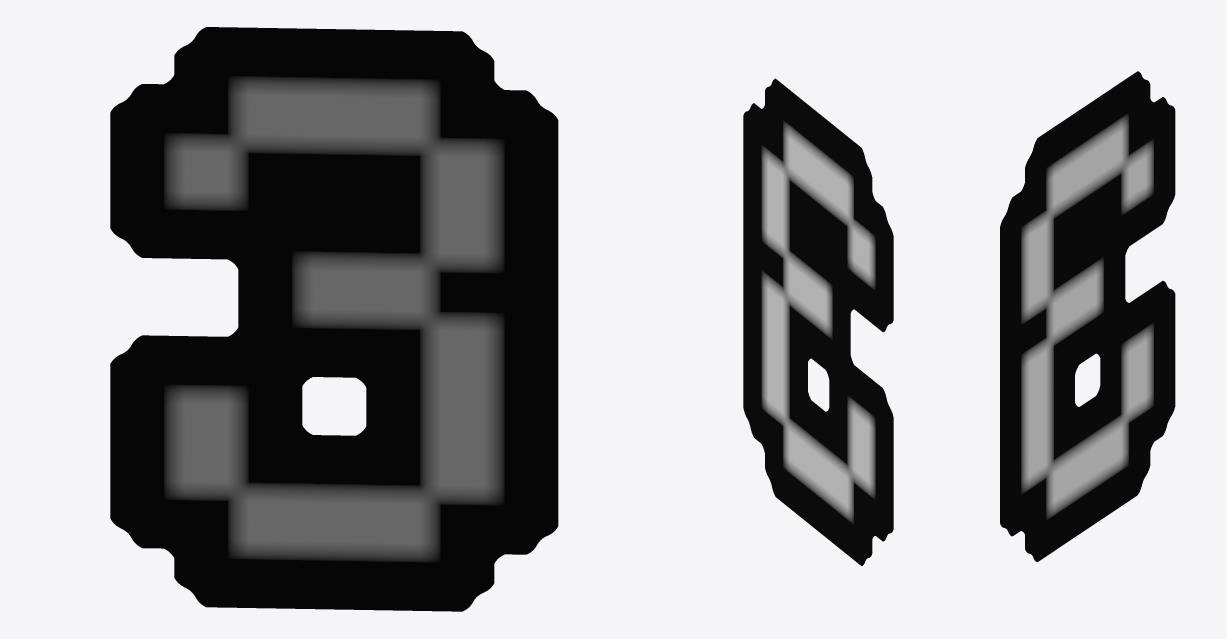
3 views of the same model, side by side, from view 1: azimuth 30°, elevation 25°; view 2: azimuth 150°, elevation 25°; view 3: azimuth 270°, elevation 25° (orthographic). The views are drawn at different scales.
Parts seen in each view (by area): view 1: Joint_0_Object_0; view 2: Joint_0_Object_0; view 3: Joint_0_Object_0.
Boxes of the visible parts, x1,y1,x2,y2 form: Joint_0_Object_0: (110,27,558,611); Joint_0_Object_0: (743,78,893,565); Joint_0_Object_0: (1000,71,1175,561).
Bounding box in the file's own units: 26.2 × 31 × 16.57.
1 material, 1 textured.
